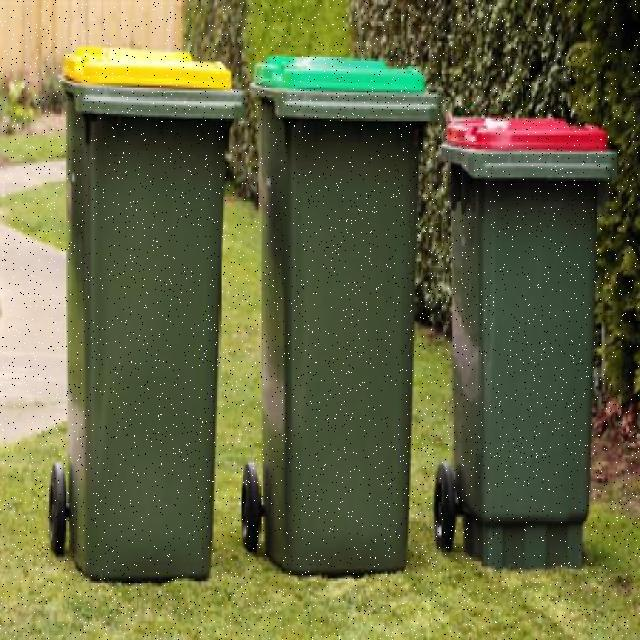garbage container: (39, 36, 252, 598), (236, 50, 445, 592), (432, 91, 621, 594)
